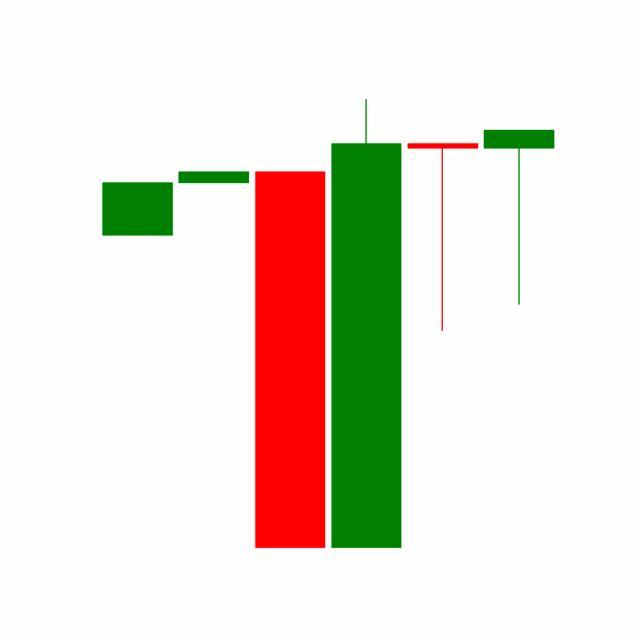Dragonfly Doji: (404, 141, 482, 334)
